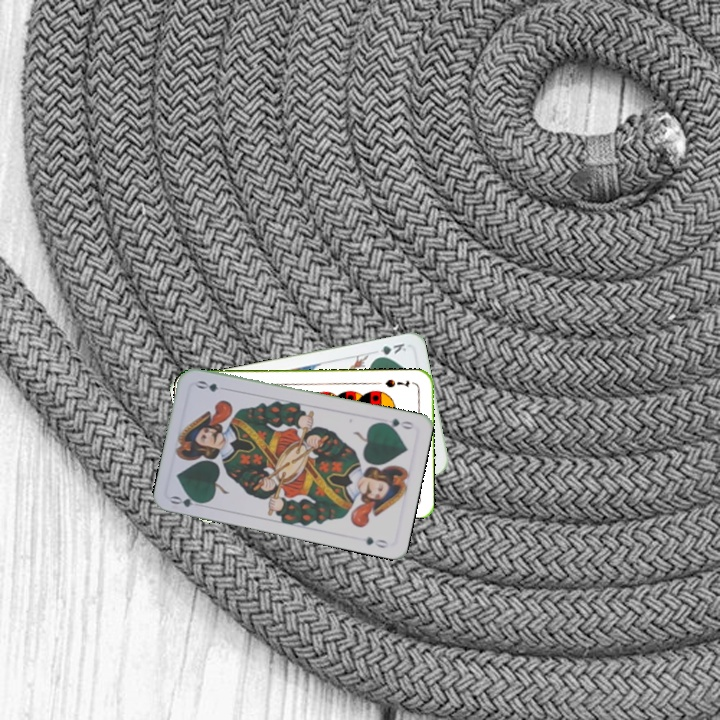GK: (371, 339, 409, 361)
GO: (167, 491, 208, 510), (376, 414, 416, 432)
S7: (381, 375, 412, 390)
